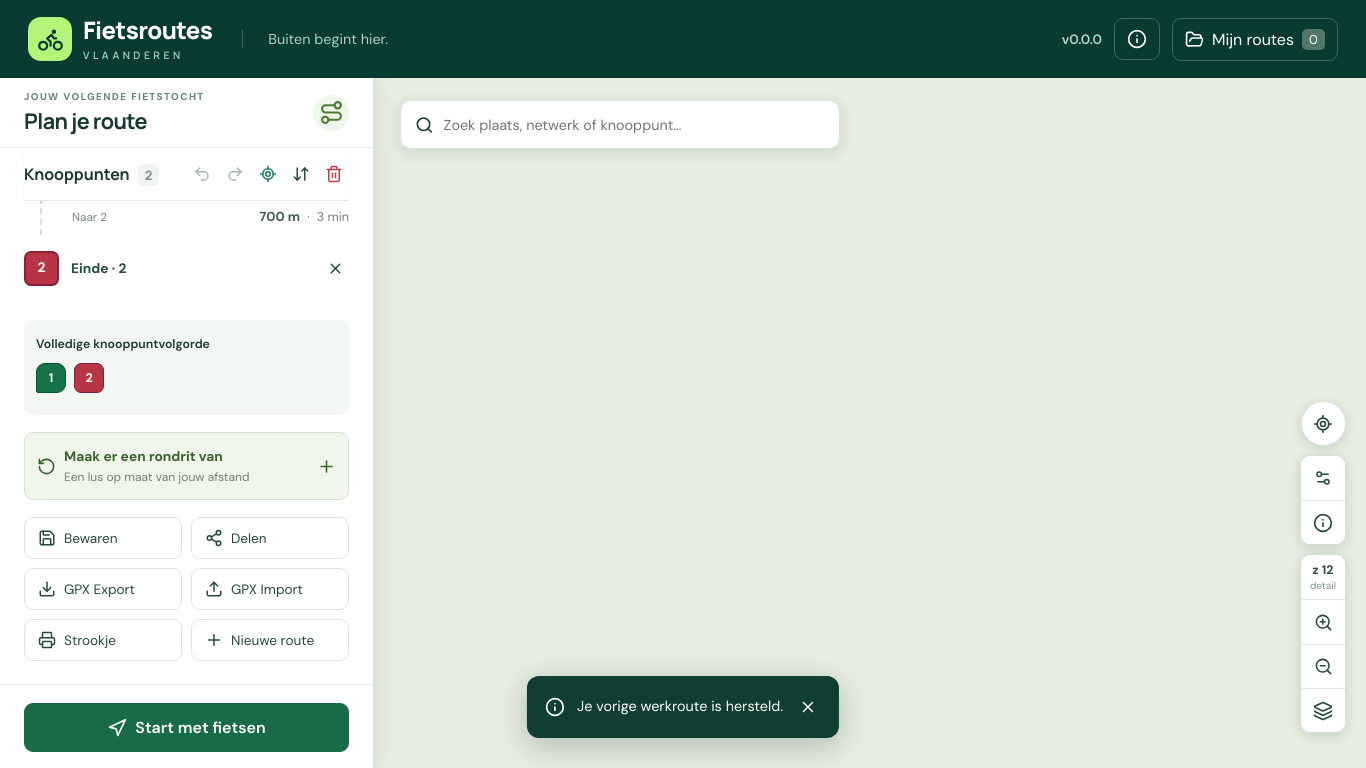
it: annuleert vervangen en behoudt de route wanneer bewaren mislukt
This screenshot has width=1366, height=768.
(page scrolled)
Click the button "Nieuwe route". click: click(270, 640)
box: left=191, top=619, right=349, bottom=661
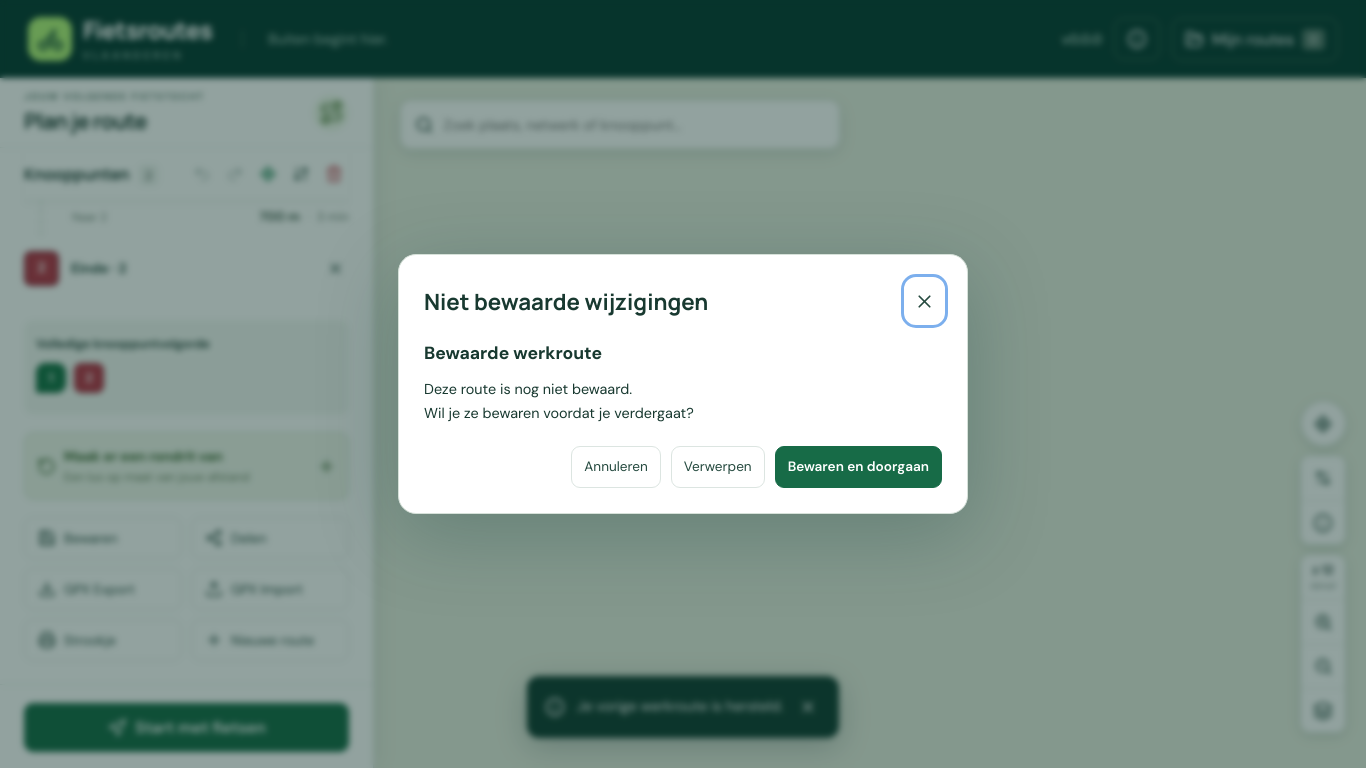
Click the button "Annuleren". click: click(616, 467)
box: left=571, top=446, right=661, bottom=488
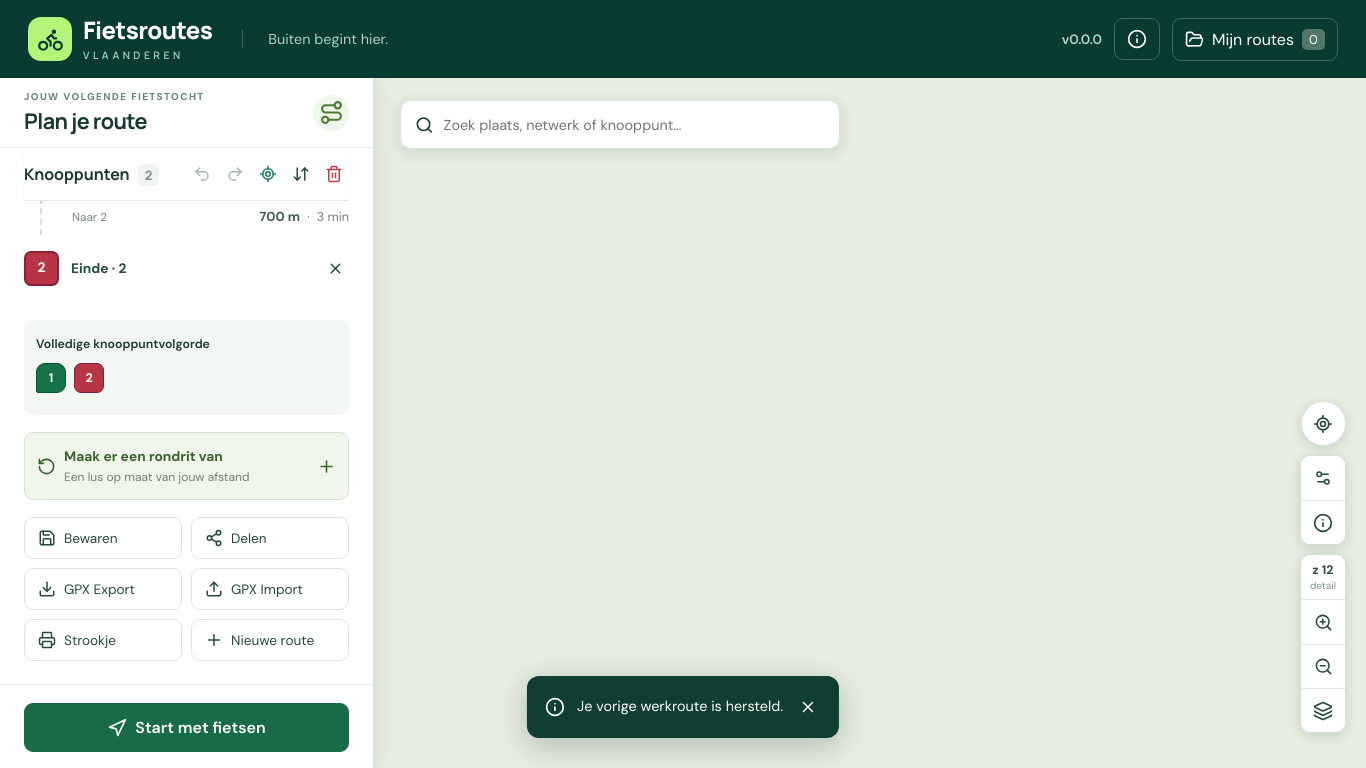
Click the button "Nieuwe route". click: click(270, 640)
box: left=191, top=619, right=349, bottom=661
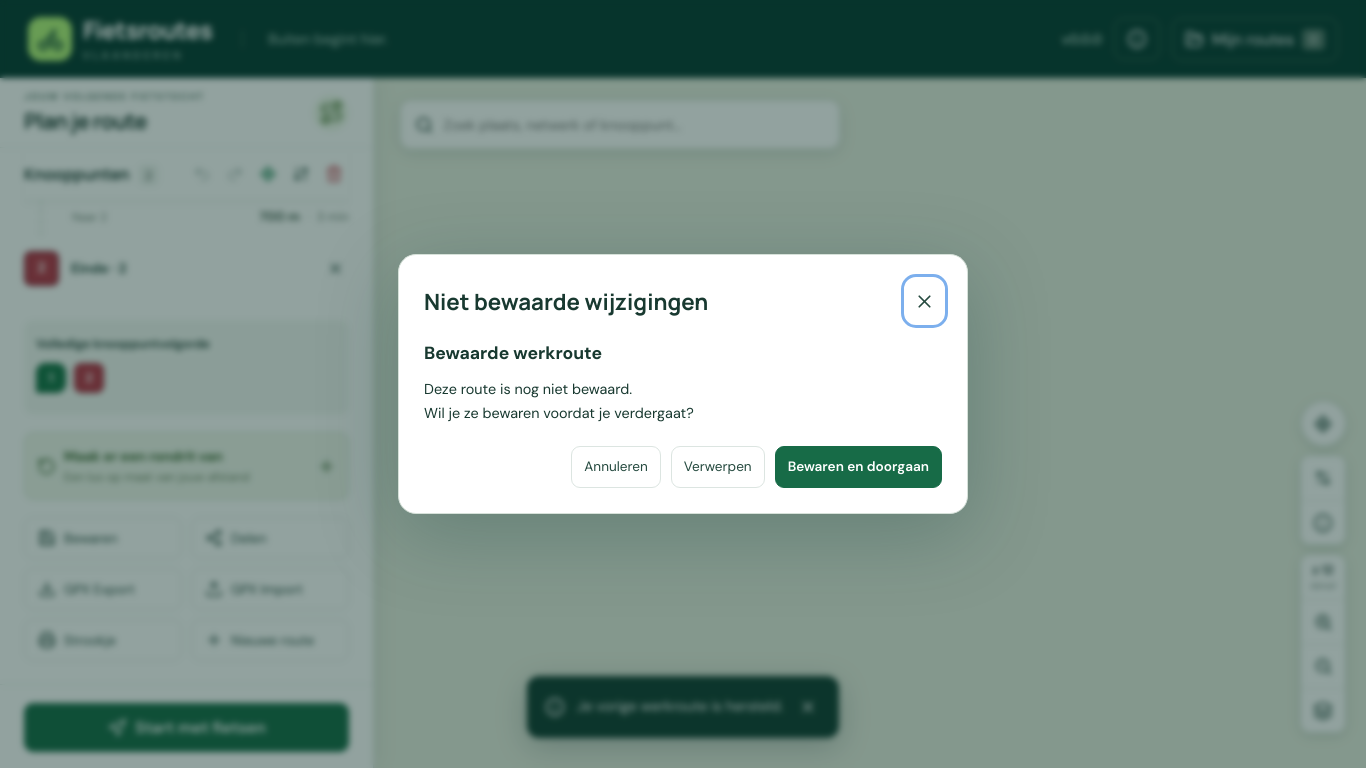
Click the button "Bewaren en doorgaan". click: click(858, 467)
box: left=775, top=446, right=942, bottom=488
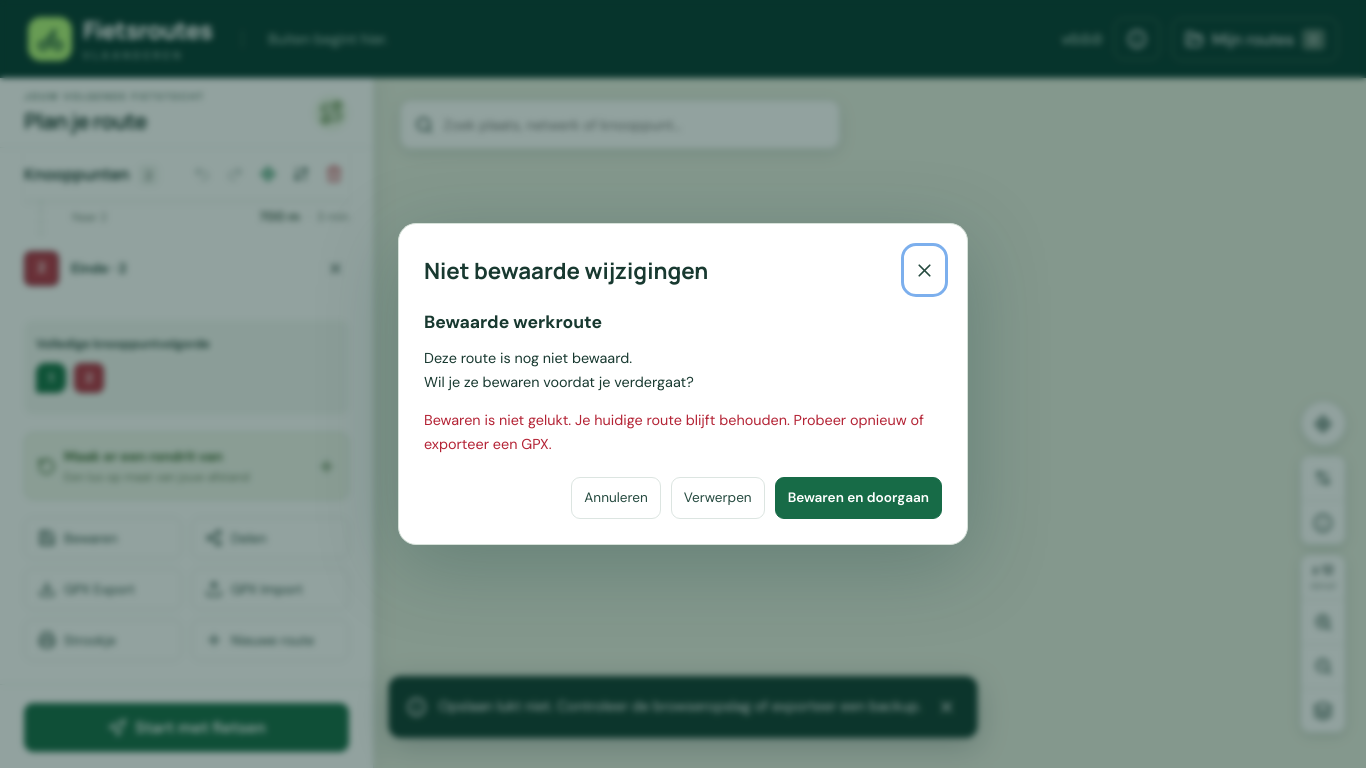
Expected: the text "Bewaren en doorgaan" is shown, left=775, top=476, right=942, bottom=518
Expected: the text "Opslaan lukt niet" is shown, left=439, top=697, right=922, bottom=715
